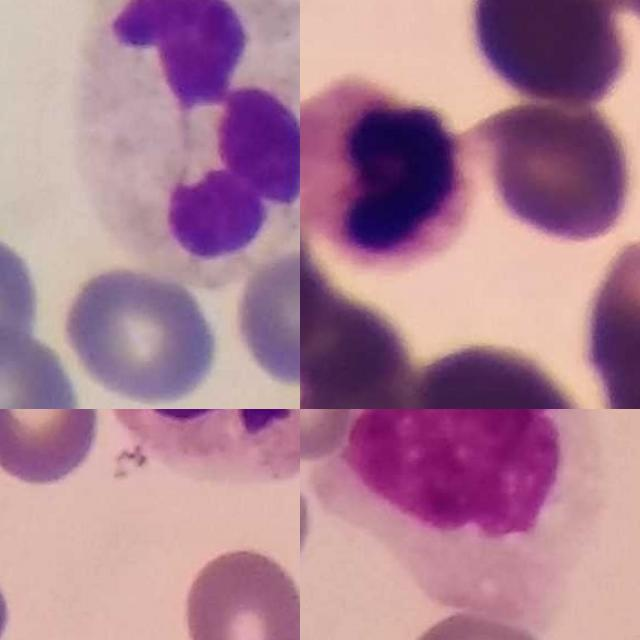Monocyte: (344, 409, 605, 611)
Neutrophil: (76, 0, 300, 262), (300, 79, 469, 261)
